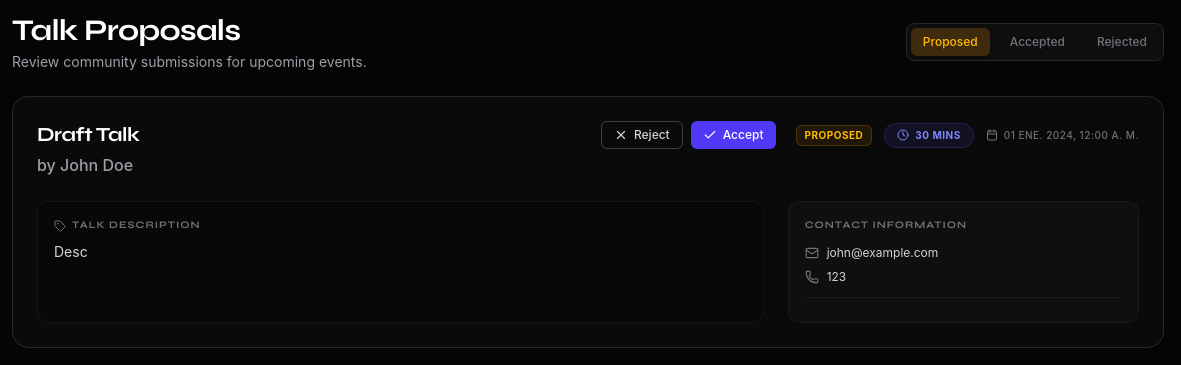
Test: ProposalList › should switch filters
Expected: the heading "Draft Talk" is shown, [37, 122, 139, 147]
# Click Accepted filter
Step 1. Click the button "Accepted" → (1037, 42), box [998, 28, 1077, 56]
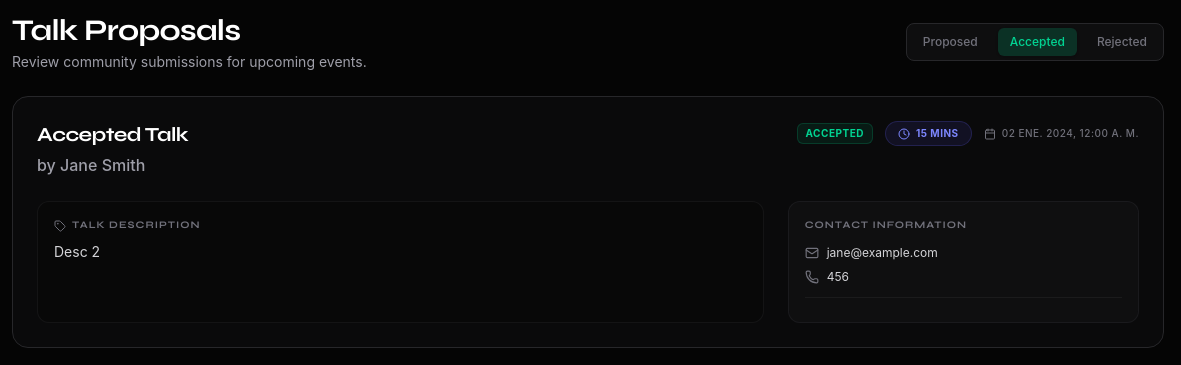
Expected: the heading "Accepted Talk" is shown, [37, 122, 188, 147]
Expected: the heading "Draft Talk" is gone
